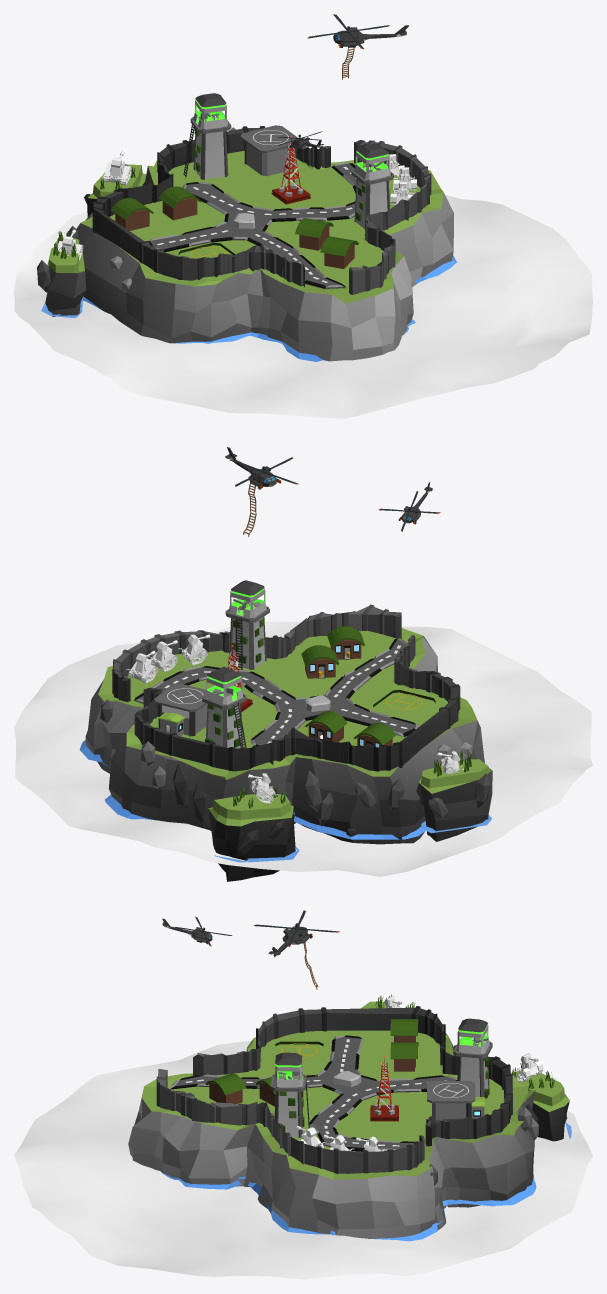
The model's file is military-base.glb.
3 views of the same model, one above another, from view 1: azimuth 30°, elevation 25°; view 2: azimuth 150°, elevation 25°; view 3: azimuth 270°, elevation 25° (orthographic). The views are drawn at different scales.
Parts seen in each view (by area): view 1: World9-Miitary, Plane; view 2: World9-Miitary, Plane; view 3: World9-Miitary, Plane.
Part boxes in pixels (x1,y1,x2,y2): World9-Miitary: [37, 14, 456, 361]; Plane: [14, 194, 592, 418]; World9-Miitary: [79, 447, 492, 881]; Plane: [14, 621, 592, 876]; World9-Miitary: [128, 910, 571, 1241]; Plane: [14, 1040, 592, 1279].
Bounding box in the file's own units: 23.85 × 12.94 × 23.99.
4 materials, 2 textured.
